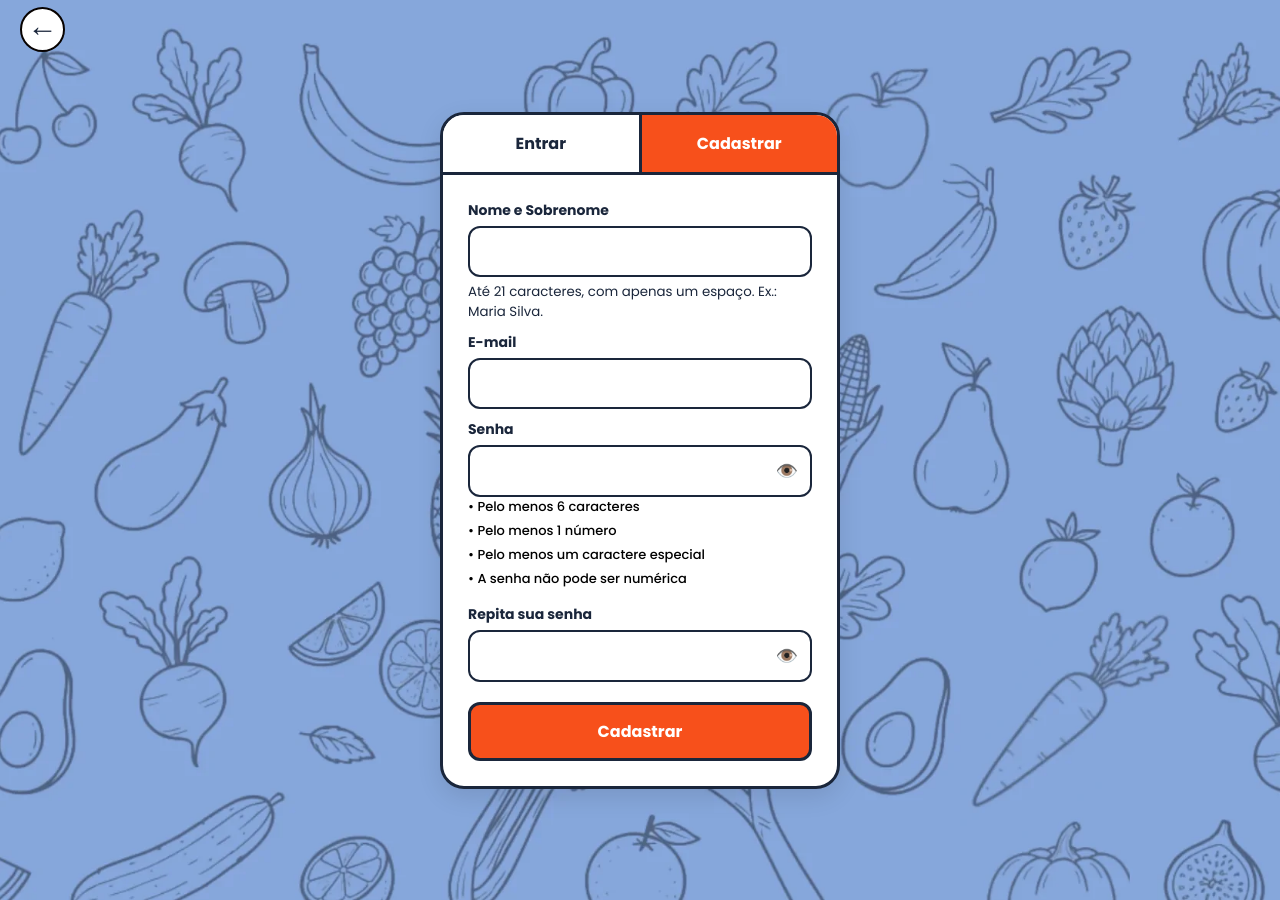
Test: formulário real, com rede simulada › trocar para o app de e-mail não cancela; corrigir o endereço cancela
The image size is (1280, 900).
Type "Teste Local" into the field labelled "Nome e Sobrenome". click: (640, 251)
box: [468,226,812,276]
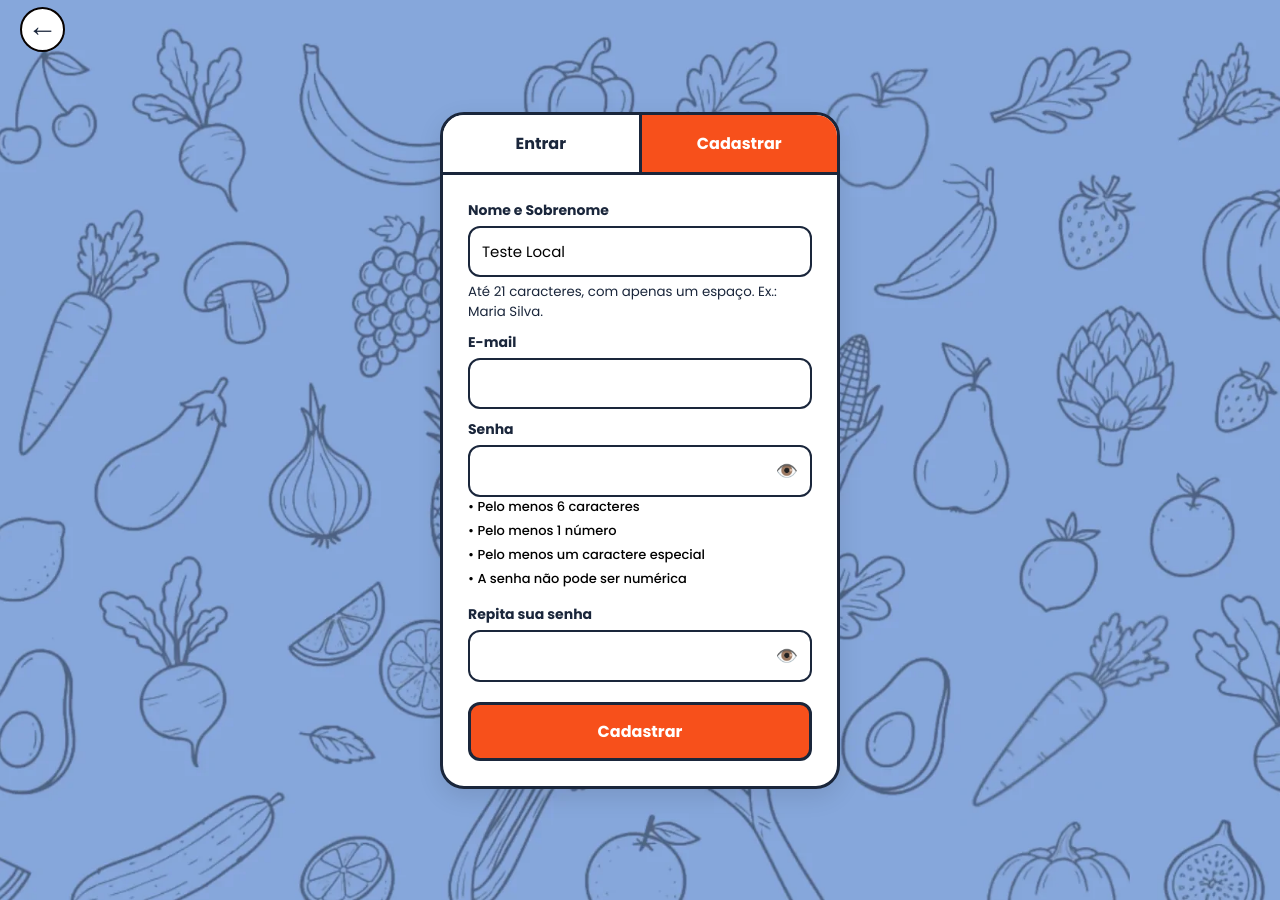
Type "teste@example.com" into the field labelled "E-mail". click: (640, 383)
box: [468,358,812,408]
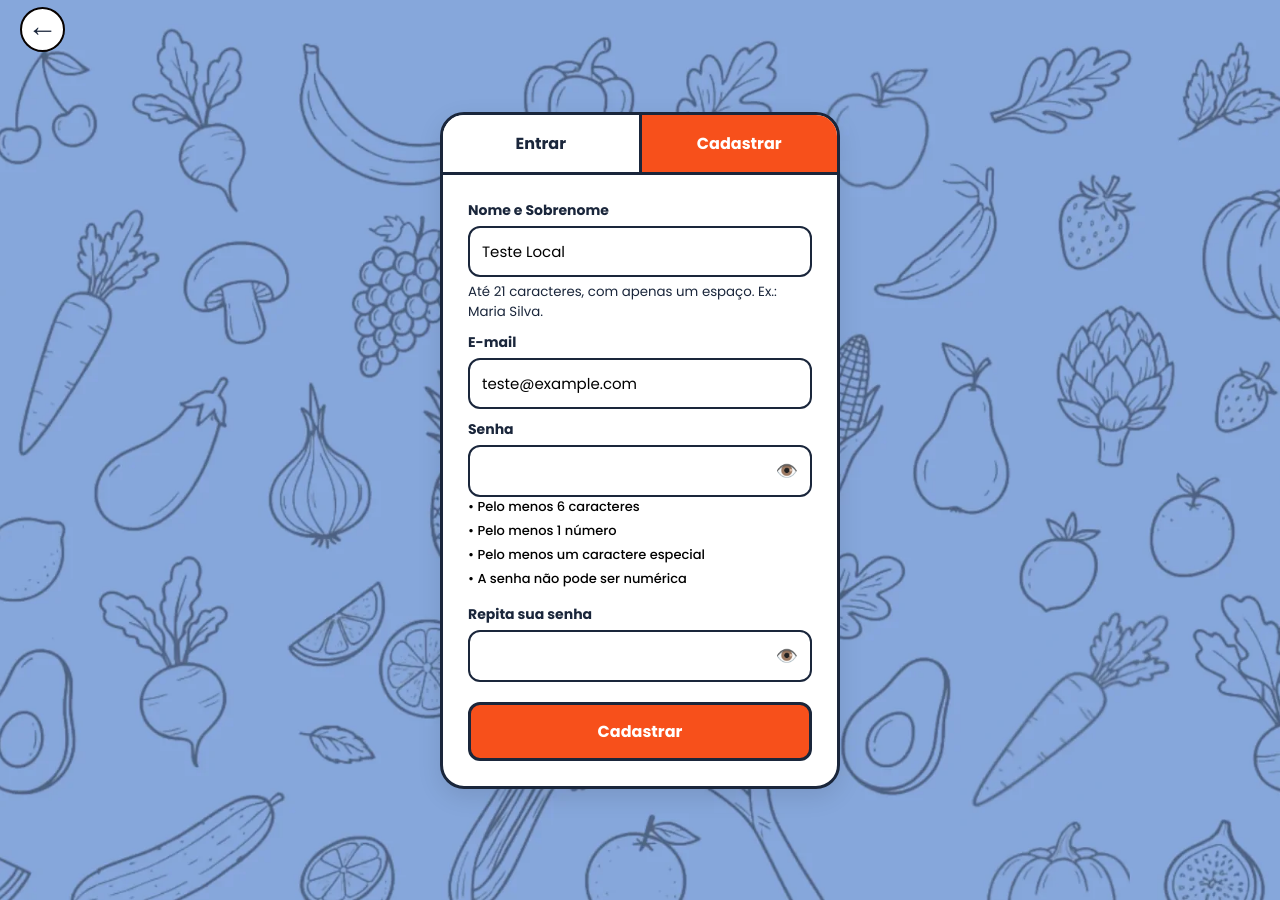
Type "Teste123!" into the password field labelled "Senha". click: (640, 470)
box: [470,446,810,494]
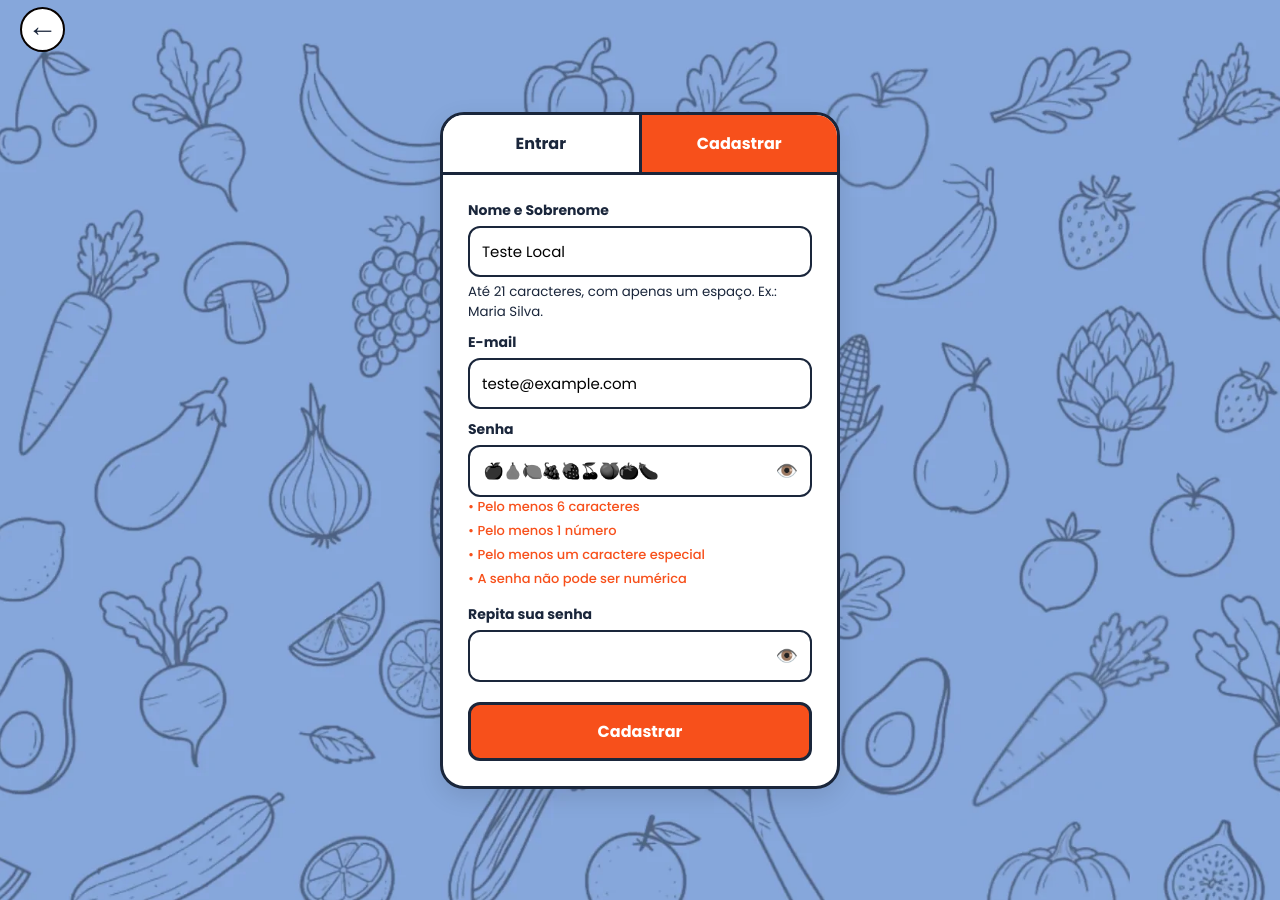
Type "Teste123!" into the password field labelled "Repita sua senha". click: (640, 656)
box: [470,632,810,680]
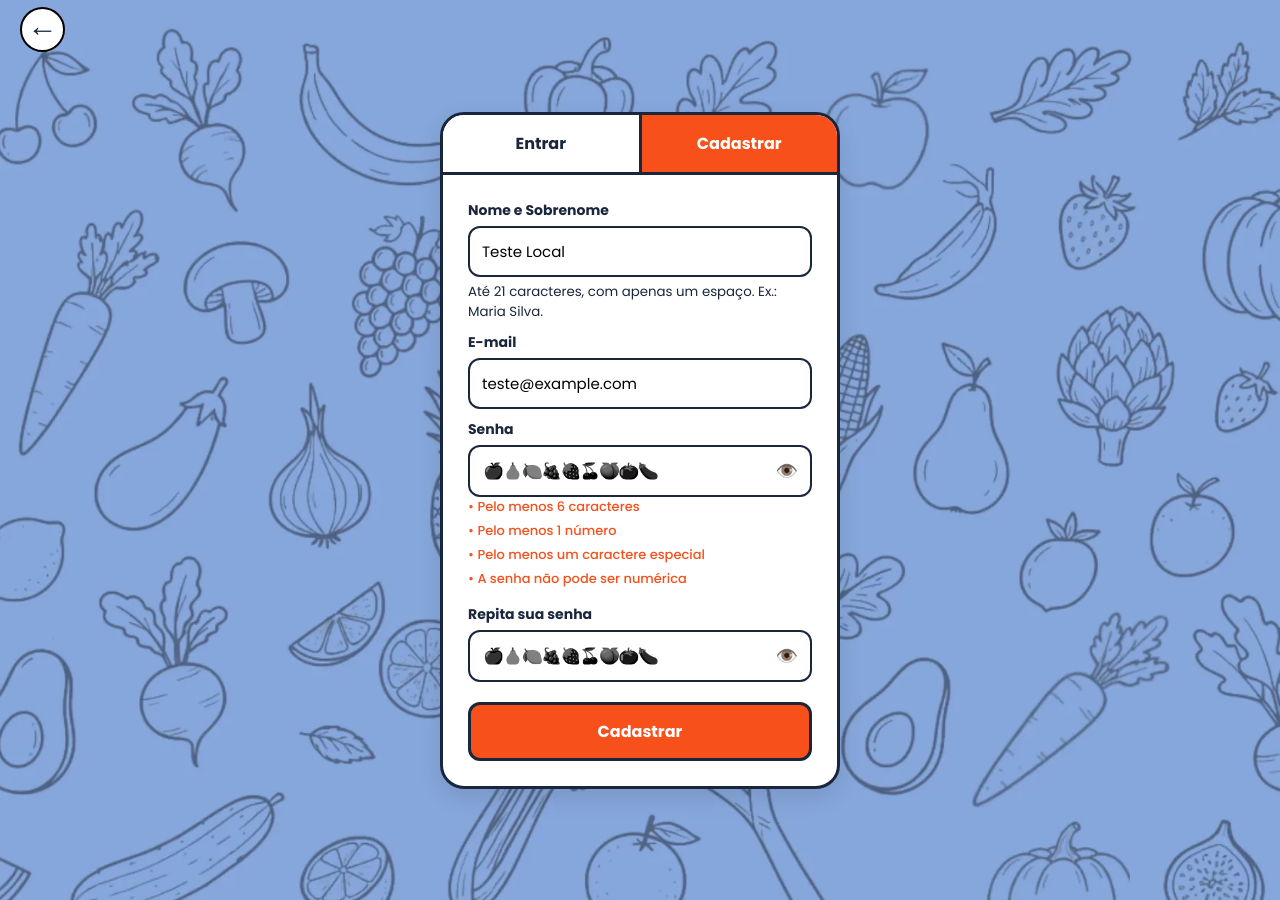
Submit the form named "E-mail", box [443,174,837,786]
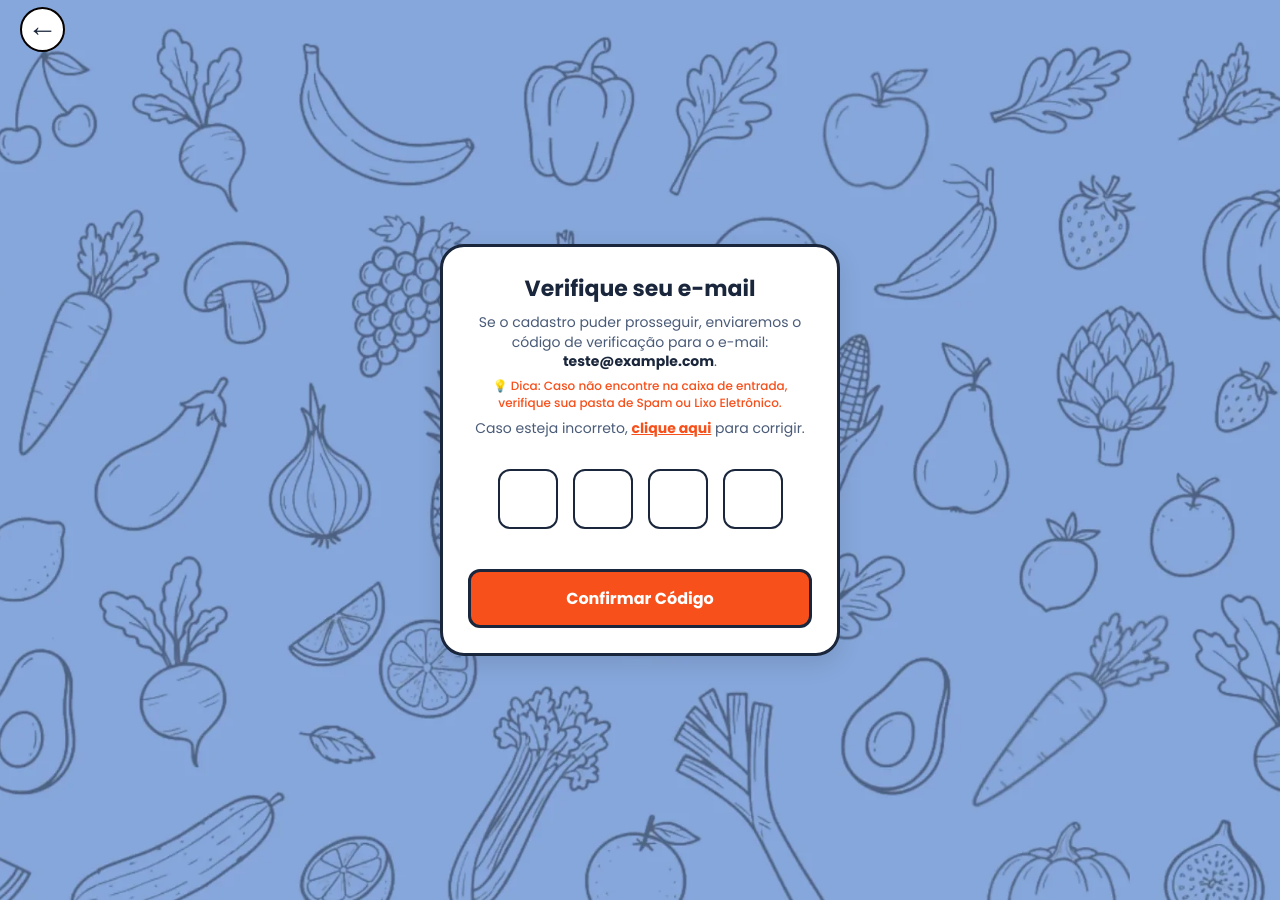
Check: the heading "Verifique seu e-mail" is shown, box [525,273,755,304]
Click the button "clique aqui". click: click(671, 429)
box: [632,419,711,439]
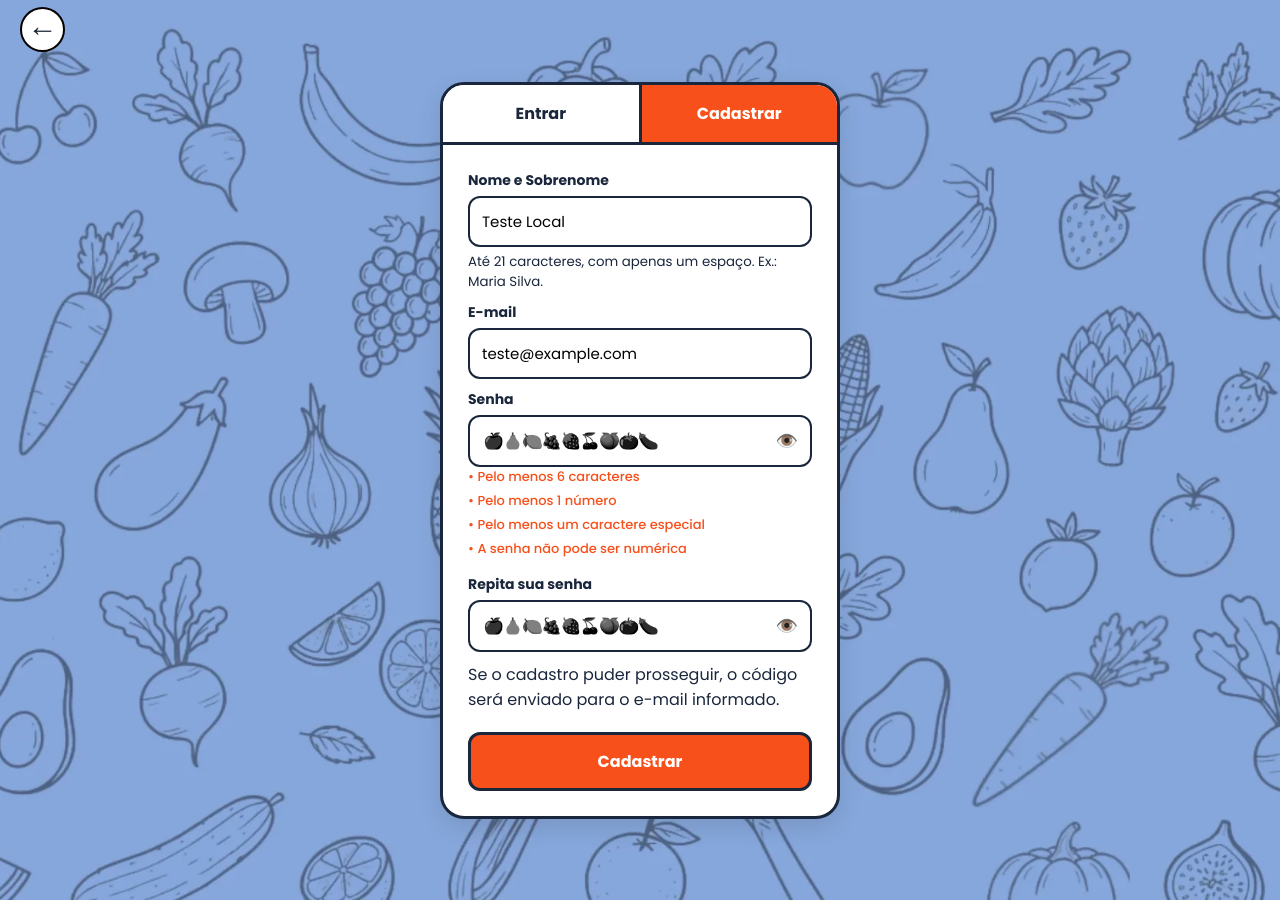
Check: the field labelled "Nome e Sobrenome" is shown, box [468,196,812,246]
